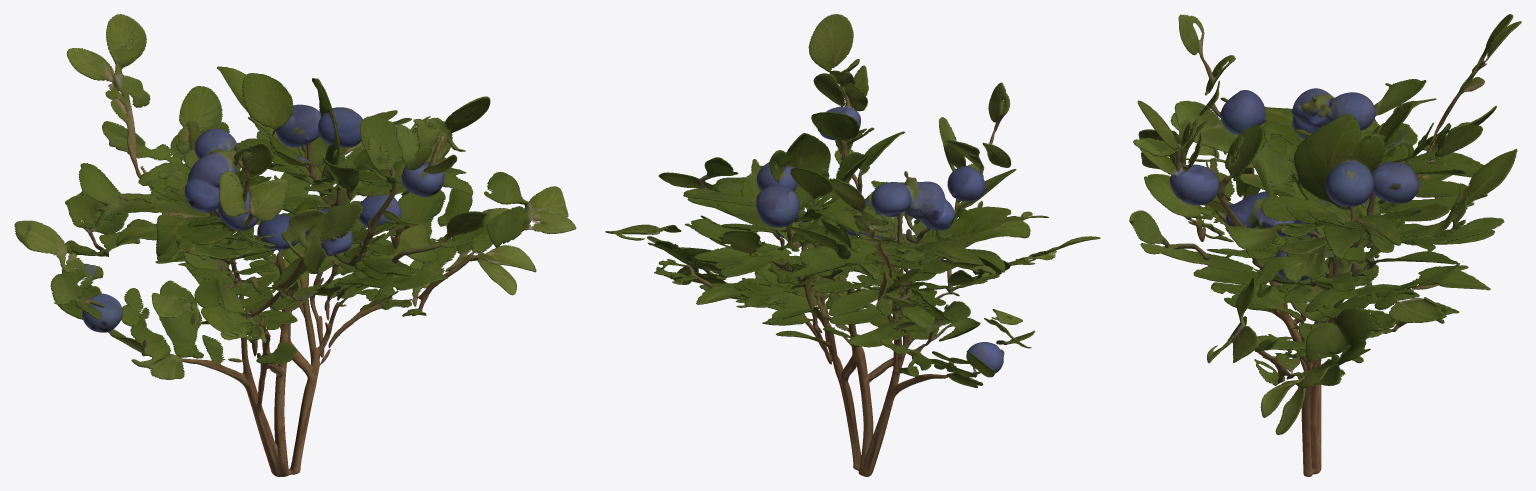
Rendered from blueberry bush 3d model.glb.
3 renders of one model, left to right at view 1: azimuth 30°, elevation 25°; view 2: azimuth 150°, elevation 25°; view 3: azimuth 270°, elevation 25°, orthographic. The views are drawn at different scales.
Parts seen in each view (by area): view 1: tripo_node_1daae631-1257-4624-bb37-326111bbc1f1; view 2: tripo_node_1daae631-1257-4624-bb37-326111bbc1f1; view 3: tripo_node_1daae631-1257-4624-bb37-326111bbc1f1.
Part boxes in pixels (<box>): tripo_node_1daae631-1257-4624-bb37-326111bbc1f1: <box>14,14,576,476</box>; tripo_node_1daae631-1257-4624-bb37-326111bbc1f1: <box>605,14,1100,476</box>; tripo_node_1daae631-1257-4624-bb37-326111bbc1f1: <box>1129,14,1521,476</box>.
Size of the model in its own units: 1 by 0.846 by 0.7045.
1 material, 1 textured.
